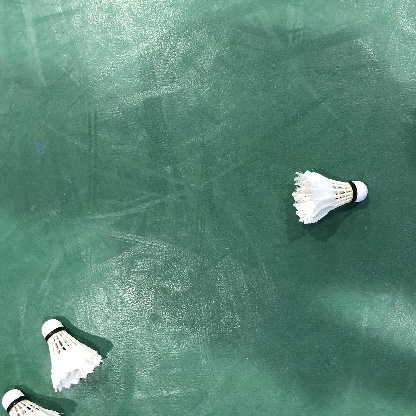ball_single: (42, 319, 102, 392), (292, 171, 368, 224), (2, 389, 62, 416)
